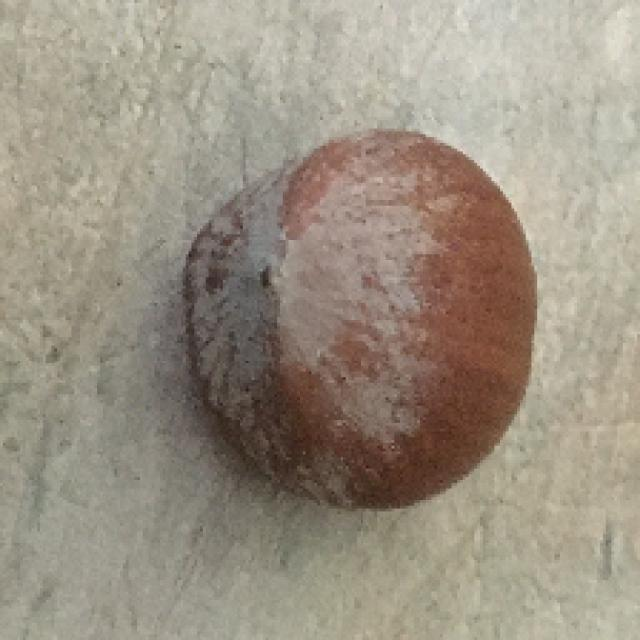qualityHazelnut: (169, 128, 542, 515)
